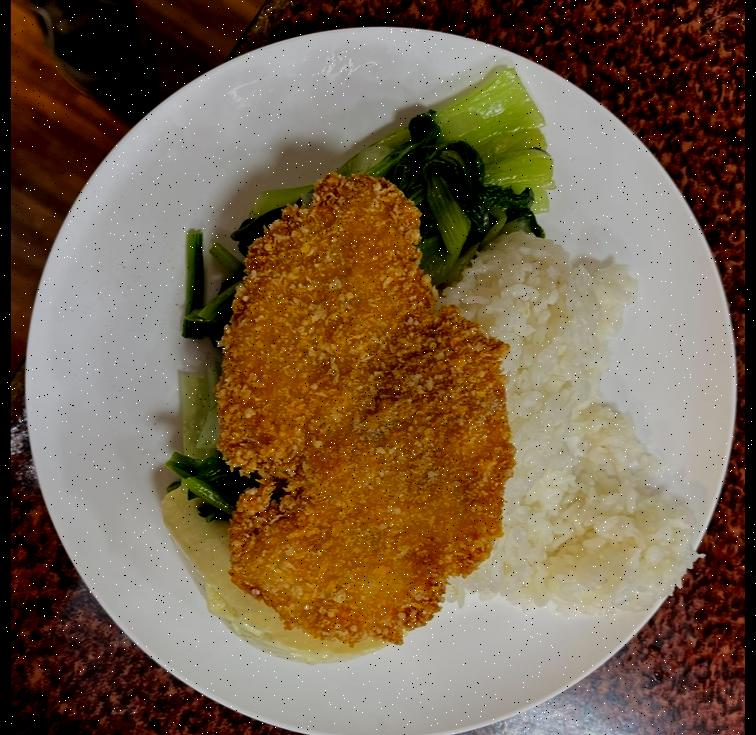chicken steak: (219, 167, 518, 644)
plate: (17, 9, 736, 735)
side dish: (168, 178, 298, 510), (164, 481, 395, 665), (410, 68, 546, 282)
white rice: (440, 233, 697, 618)
